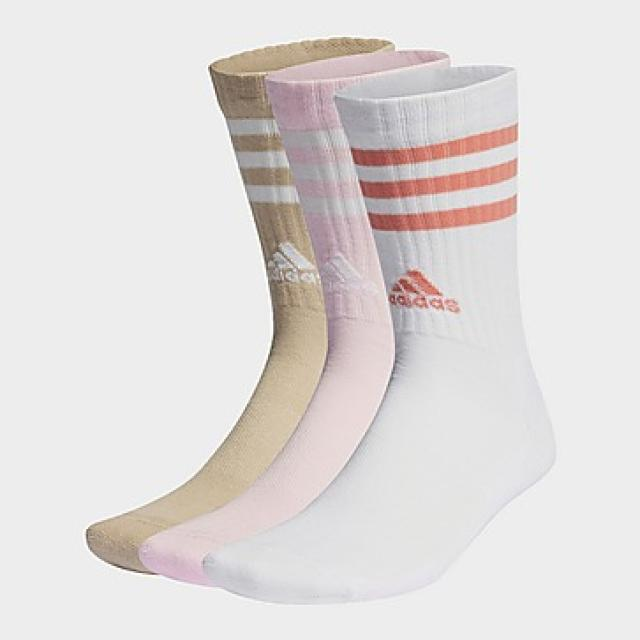sock: (141, 60, 555, 603)
